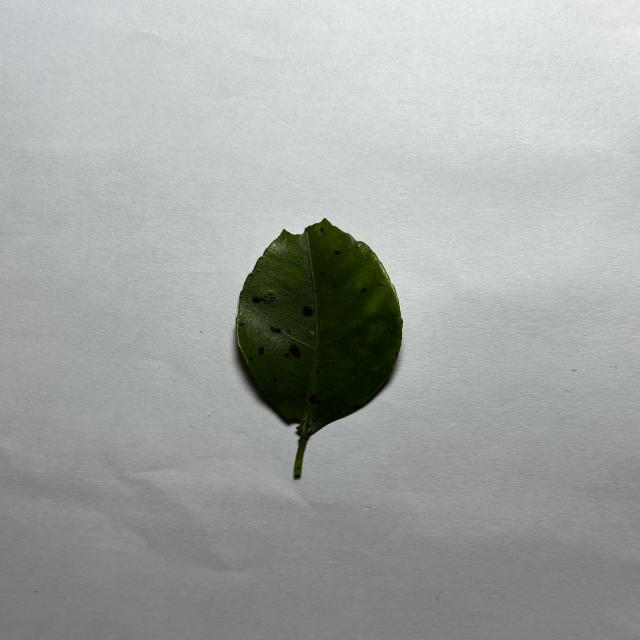sooty_mold: (237, 219, 402, 477)
